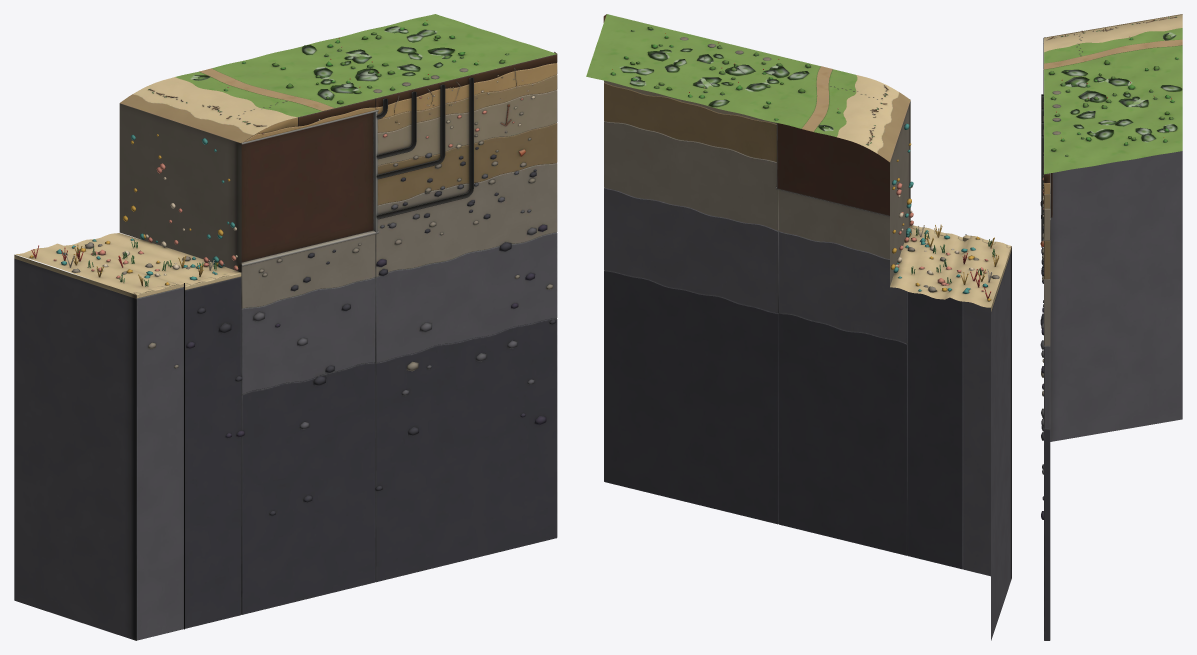
File: coast_slab.glb
The picture shows the model from 3 angles, left to right: view 1: azimuth 30°, elevation 25°; view 2: azimuth 150°, elevation 25°; view 3: azimuth 270°, elevation 25°; orthographic projection. The views are drawn at different scales.
Visible parts, largest first — view 1: coast_slab; view 2: coast_slab; view 3: coast_slab.
Part boxes in pixels (<box>): coast_slab: <box>14,14,557,640</box>; coast_slab: <box>586,14,1011,640</box>; coast_slab: <box>1040,14,1182,640</box>.
Bounding box in the file's own units: 49.25 × 49.03 × 13.33.
1 material, 1 textured.
